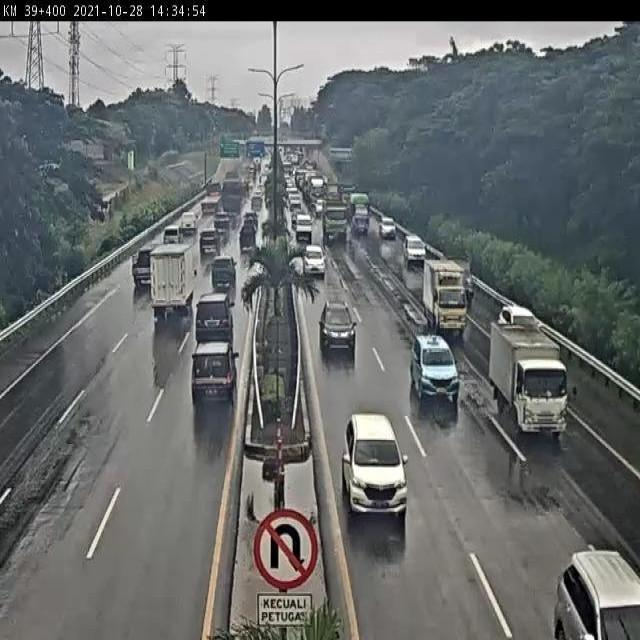car: (340, 405, 412, 523), (189, 335, 240, 404), (410, 332, 461, 399), (194, 288, 235, 345), (318, 299, 357, 352), (499, 298, 536, 338), (209, 253, 238, 295), (130, 241, 157, 283), (302, 241, 331, 280), (401, 232, 427, 271), (197, 225, 221, 255), (237, 223, 259, 253), (162, 224, 185, 249)
small truck: (485, 315, 569, 441), (416, 252, 470, 339), (150, 242, 198, 322)
